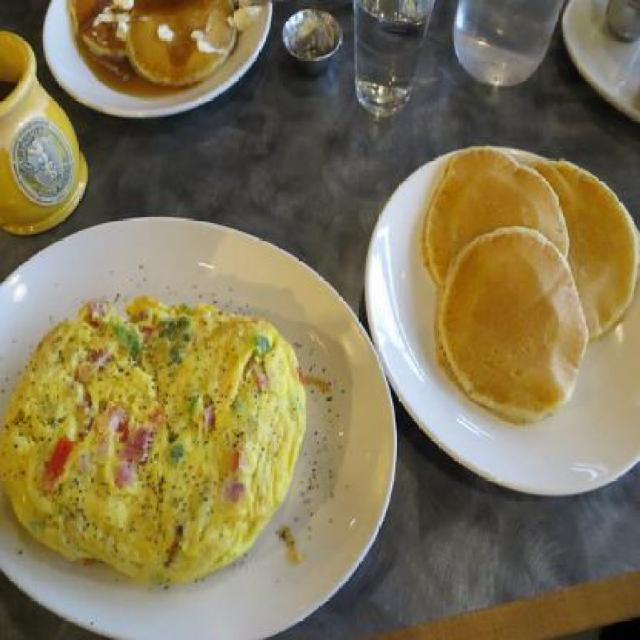omelette: (2, 291, 312, 583)
pancakes: (421, 150, 639, 430), (62, 2, 267, 84)
